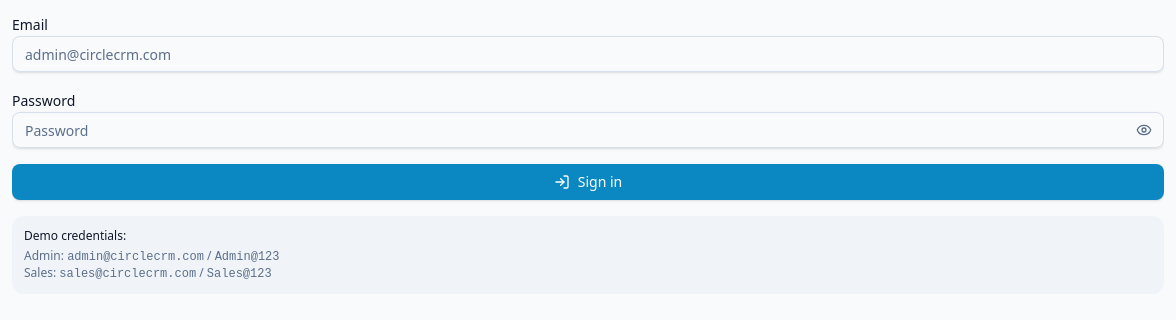
LoginPage › shows email validation error for an invalid email
The width and height of the screenshot is (1176, 320).
In the field labelled "Email": (588, 54) [12,36,1164,72], type "a@b"
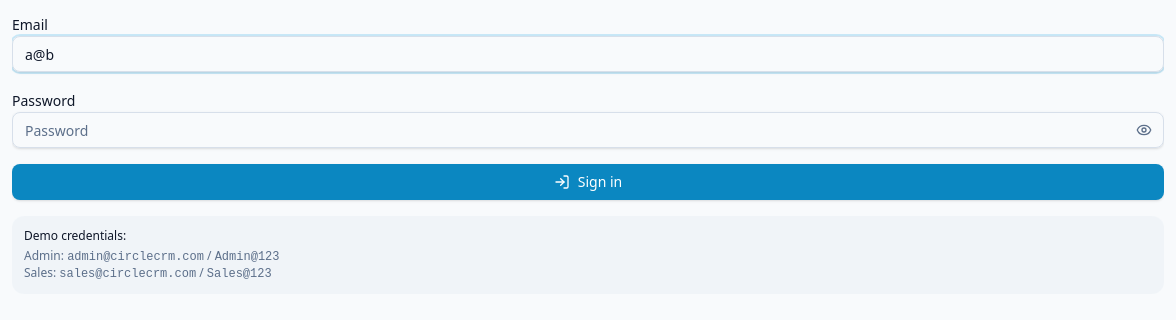
In the password field labelled "Password": (588, 130) [12,112,1164,148], type "Admin@123"
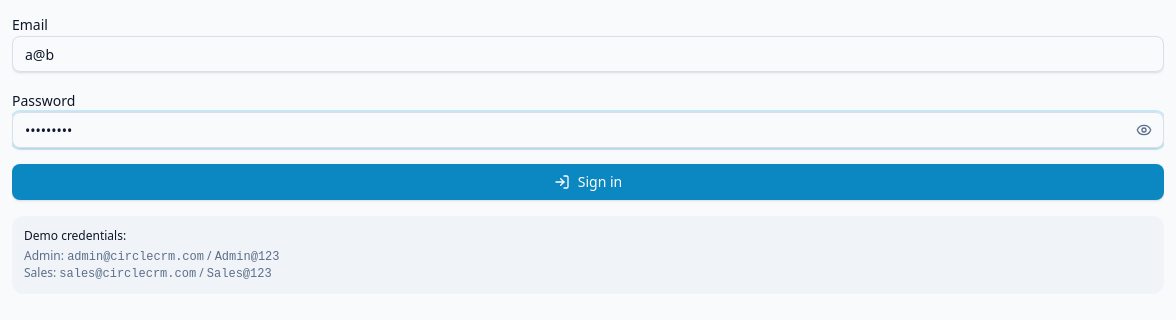
Click the button "Sign in": (588, 182) [12,164,1164,200]
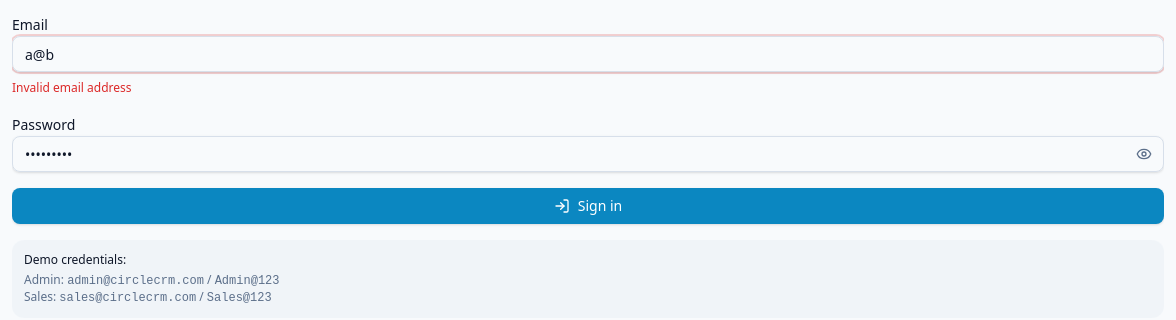
Expected: the text "Invalid email address" is shown, [12,79,132,96]
